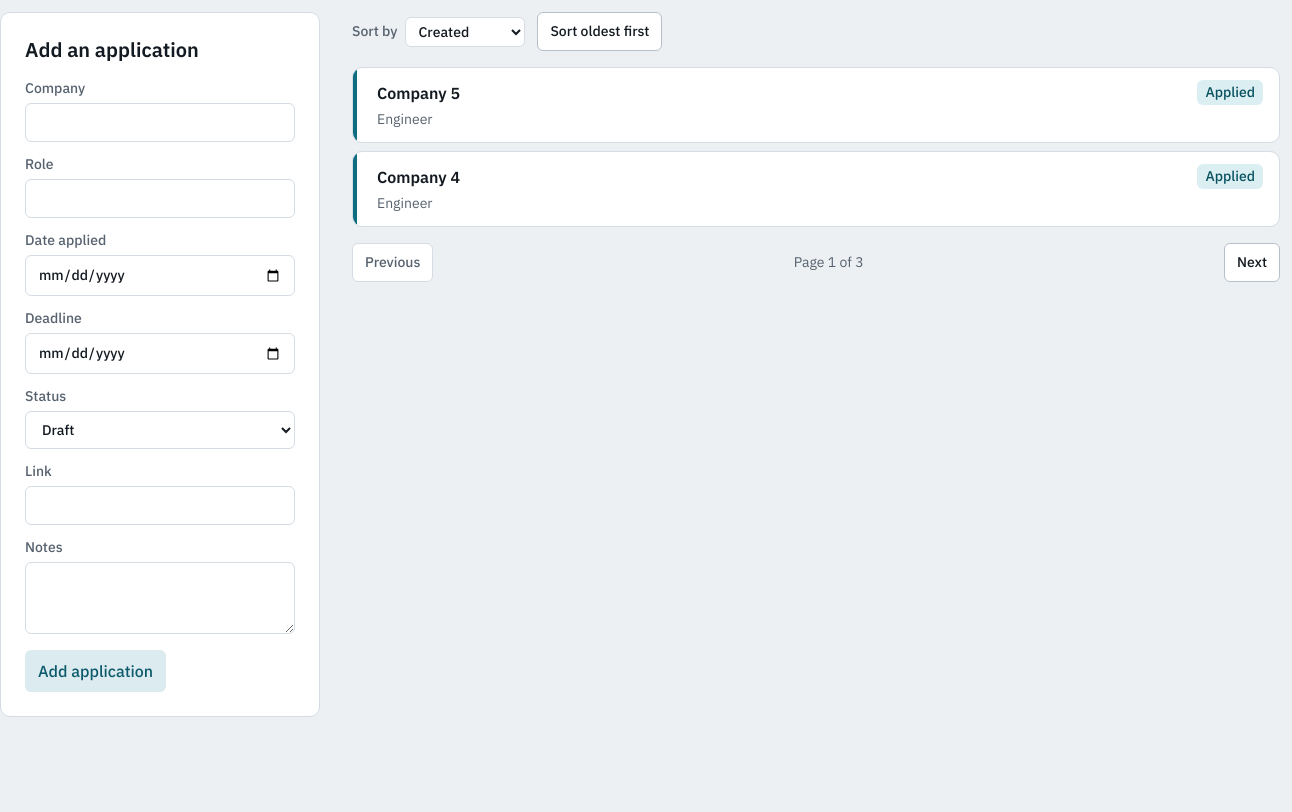
Scenario: adding an application returns to page 1
Expected: the button "Company 5 Engineer Applied" is shown, [377,80,1263,130]
Click the button "Next" at coordinates (1252, 262), box [1224,243,1280,282]
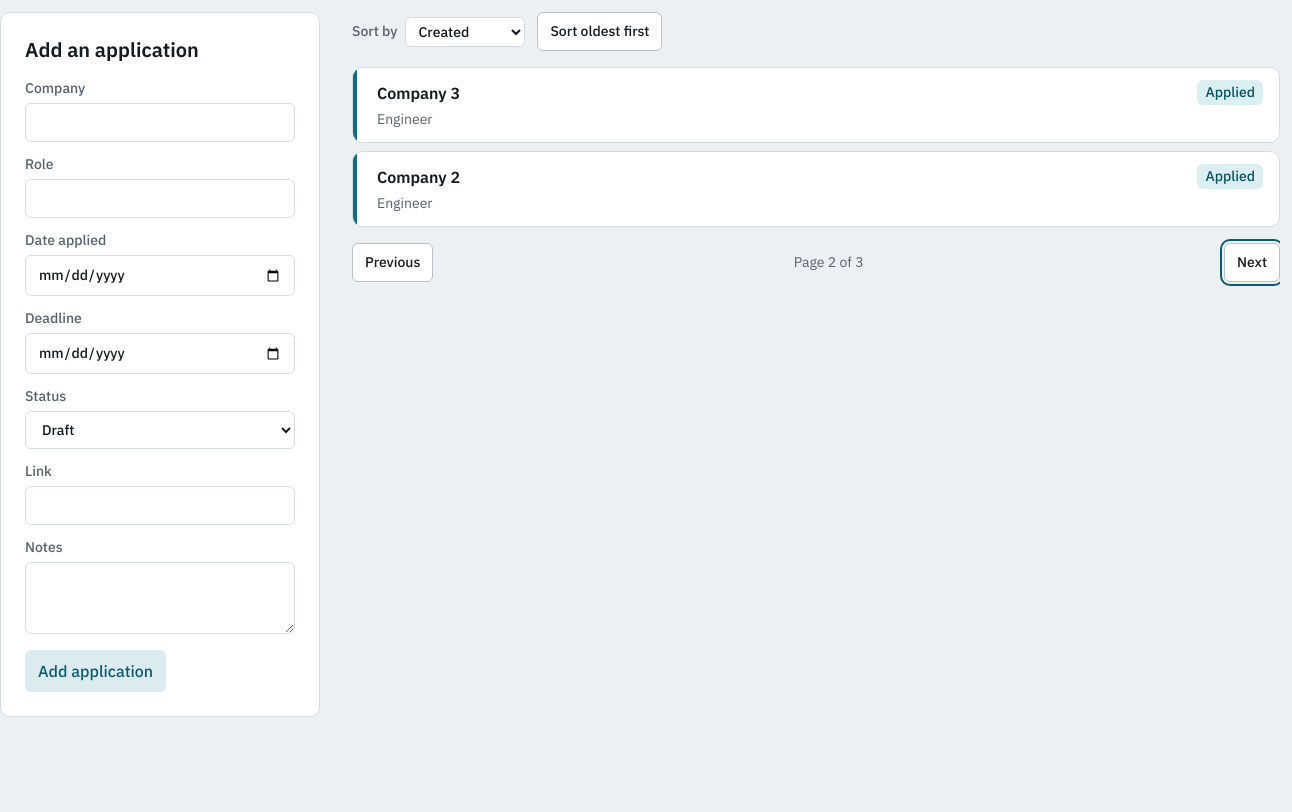
Result: the text "Page 2 of 3" is shown at [794,252,864,273]
Type "Globex" into the field labelled "Company" at coordinates (160, 122), box [25,103,295,142]
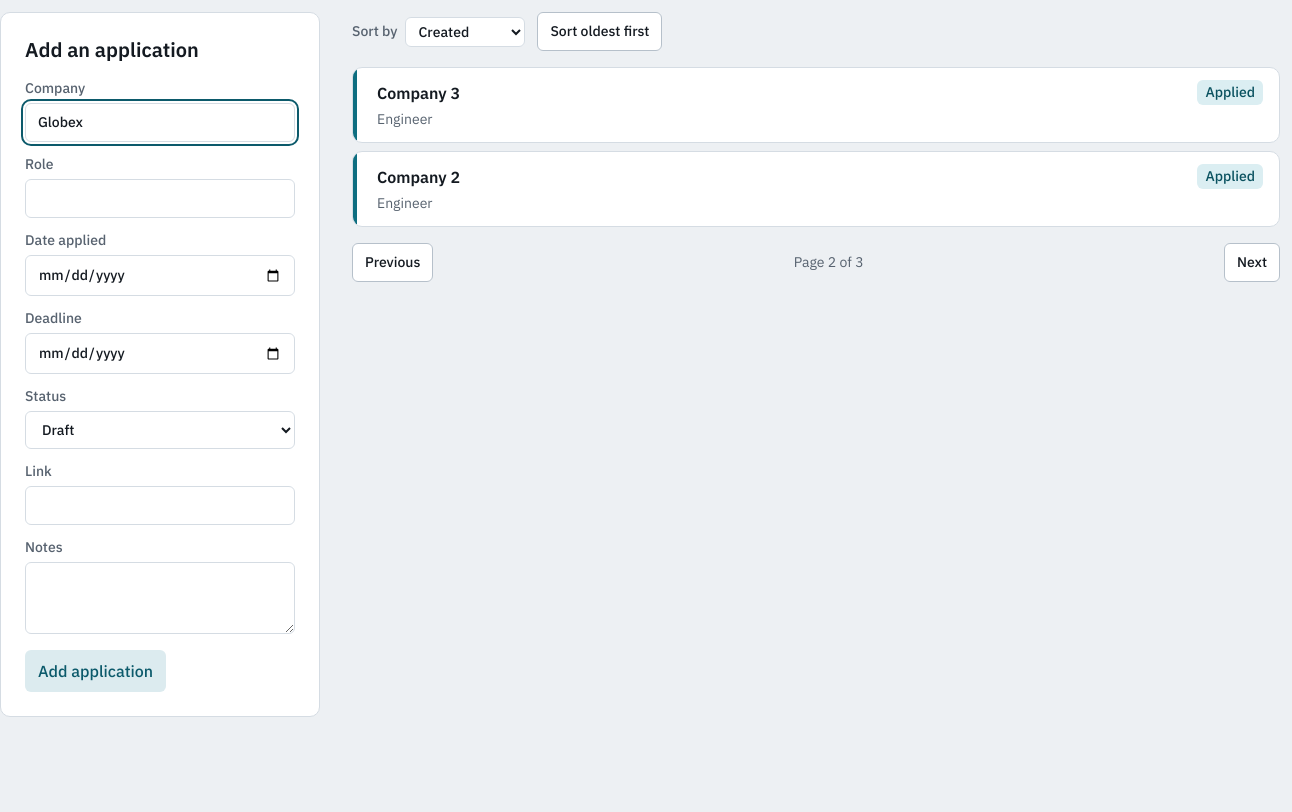
Type "Engineer" into the field labelled "Role" at coordinates (160, 198), box [25,179,295,218]
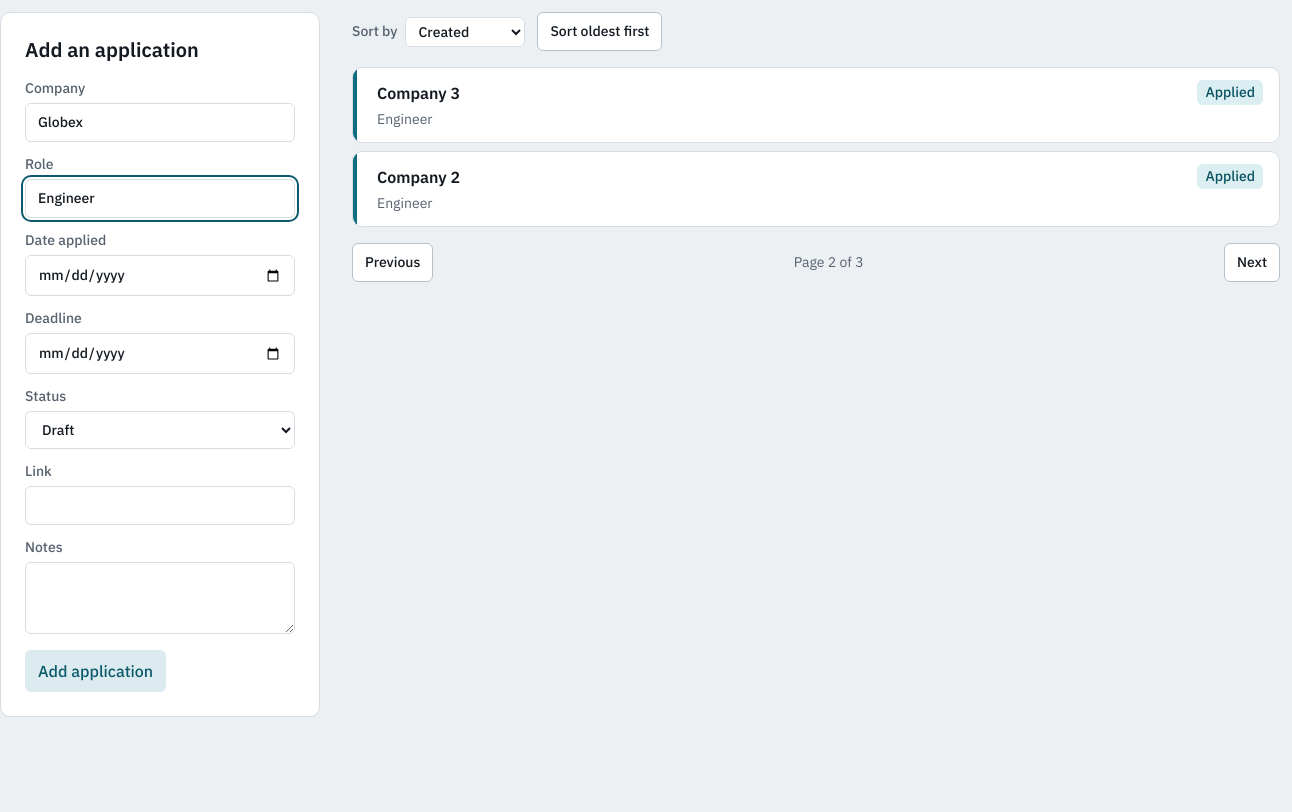
Click the button "Add application" at coordinates (96, 671), box [25,650,166,692]
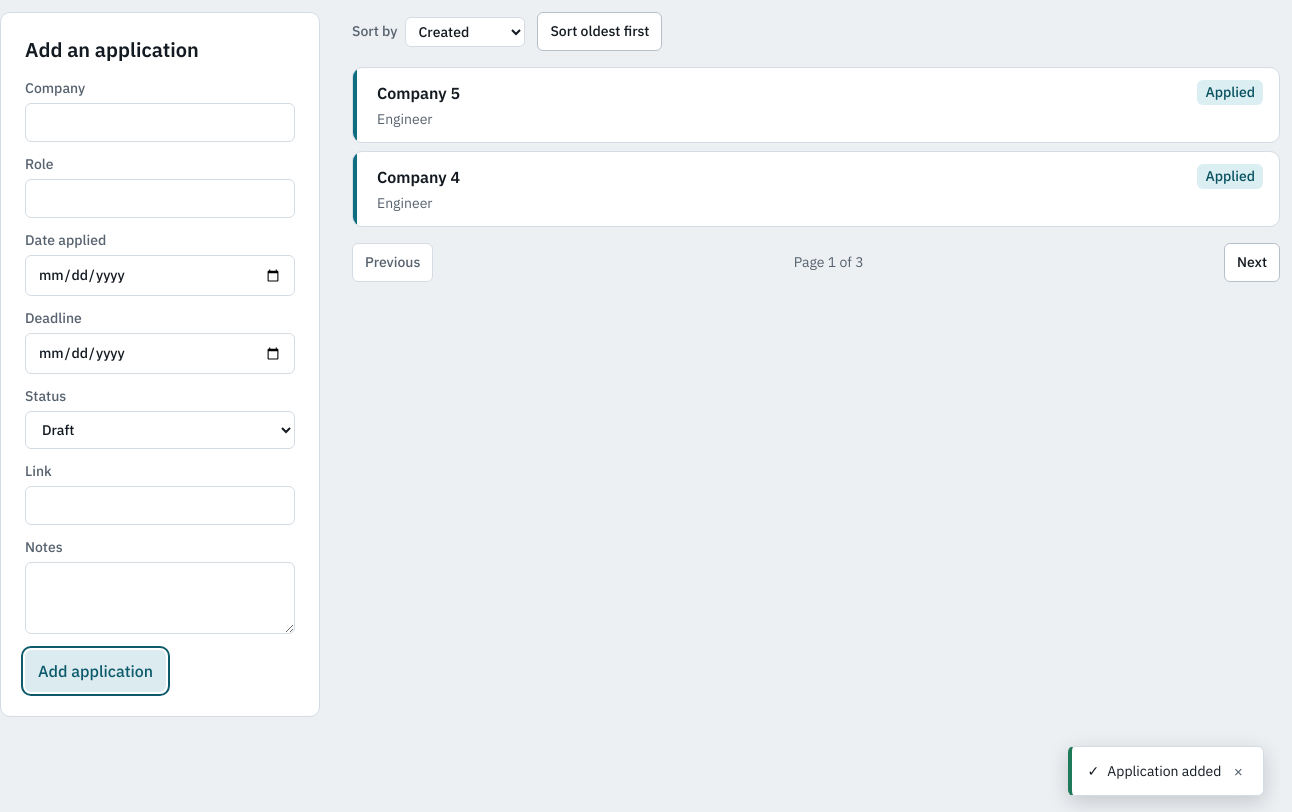
Result: the text "Page 1 of 3" is shown at [794,252,864,273]
